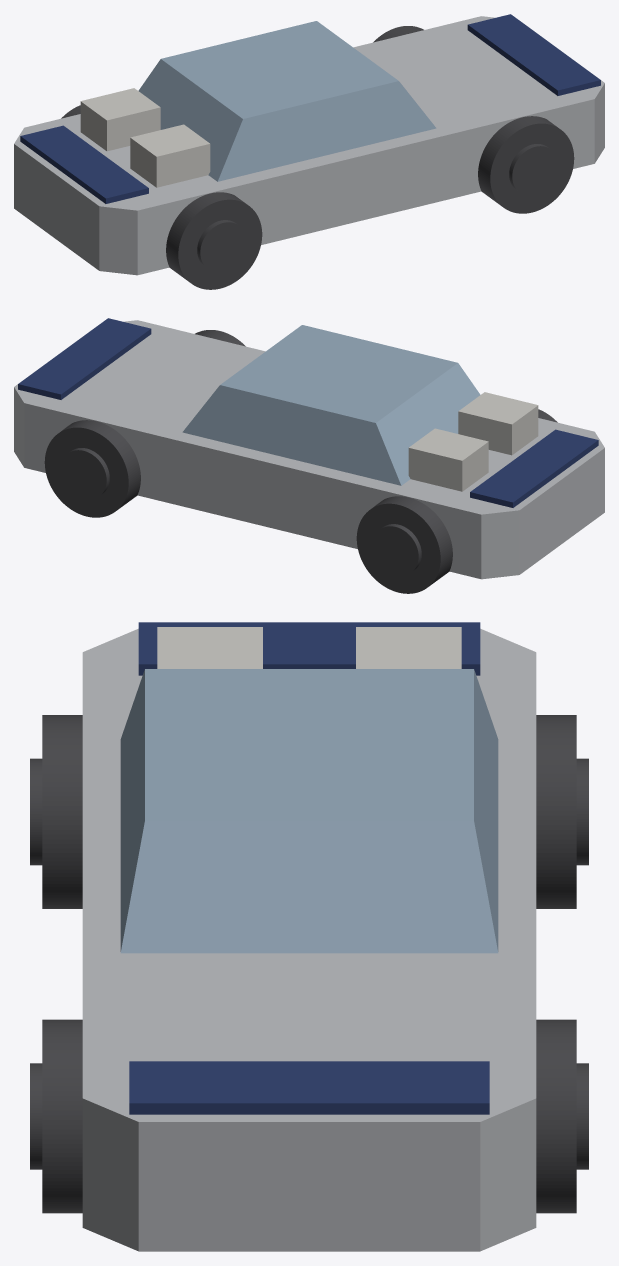
3 views of the same model, one above another, from view 1: azimuth 30°, elevation 25°; view 2: azimuth 150°, elevation 25°; view 3: azimuth 270°, elevation 25° (orthographic). The views are drawn at different scales.
Visible parts, largest first — view 1: chassis, cabin, wheel_rr, wheel_fr, solar_hood, solar_deck, module_02, module_01; view 2: chassis, cabin, wheel_rl, wheel_fl, solar_hood, solar_deck, module_01, module_02; view 3: chassis, cabin, solar_hood, wheel_fl, wheel_fr, wheel_rl, wheel_rr, solar_deck, module_01, module_02.
Boxes of the visible parts, x1,y1,x2,y2 form: chassis: (14, 16, 604, 275); cabin: (138, 21, 436, 181); wheel_rr: (166, 192, 262, 289); wheel_fr: (478, 116, 574, 213); solar_hood: (467, 14, 600, 95); solar_deck: (20, 125, 148, 203); module_02: (130, 124, 210, 187); module_01: (80, 88, 160, 151); chassis: (14, 320, 604, 579); cabin: (182, 325, 480, 485); wheel_rl: (356, 496, 452, 593); wheel_fl: (44, 420, 140, 517); solar_hood: (18, 318, 151, 399); solar_deck: (470, 429, 598, 507); module_01: (408, 428, 488, 491); module_02: (458, 392, 538, 455); chassis: (82, 628, 536, 1251); cabin: (120, 669, 498, 953); solar_hood: (129, 1061, 489, 1114); wheel_fl: (536, 1019, 588, 1213); wheel_fr: (30, 1019, 82, 1213); wheel_rl: (536, 715, 588, 908); wheel_rr: (30, 715, 82, 908); solar_deck: (138, 622, 480, 675); module_01: (356, 627, 461, 668); module_02: (157, 627, 262, 668).
Bounding box in the file's own units: 9.4 × 2.47 × 4.5.
